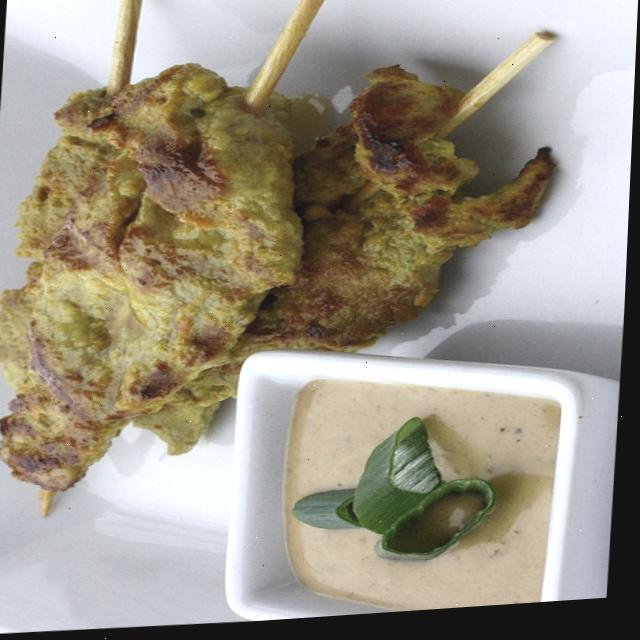牛肉菜式: (0, 0, 633, 565)
